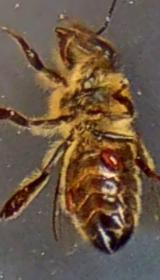varroa_mite: (96, 148, 125, 174)
